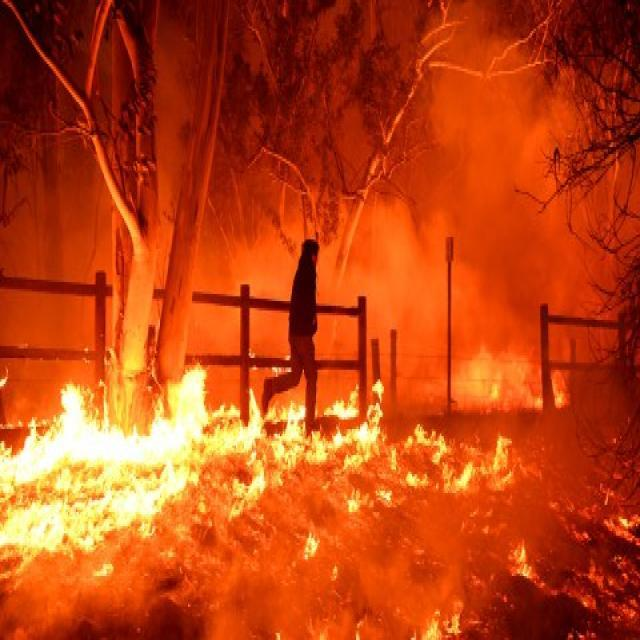Fire: (0, 379, 226, 559), (234, 380, 385, 498), (406, 412, 456, 473), (512, 530, 542, 592), (420, 600, 464, 640), (487, 419, 521, 467)
Smoke: (376, 56, 624, 372), (0, 136, 97, 351), (184, 208, 294, 360)
